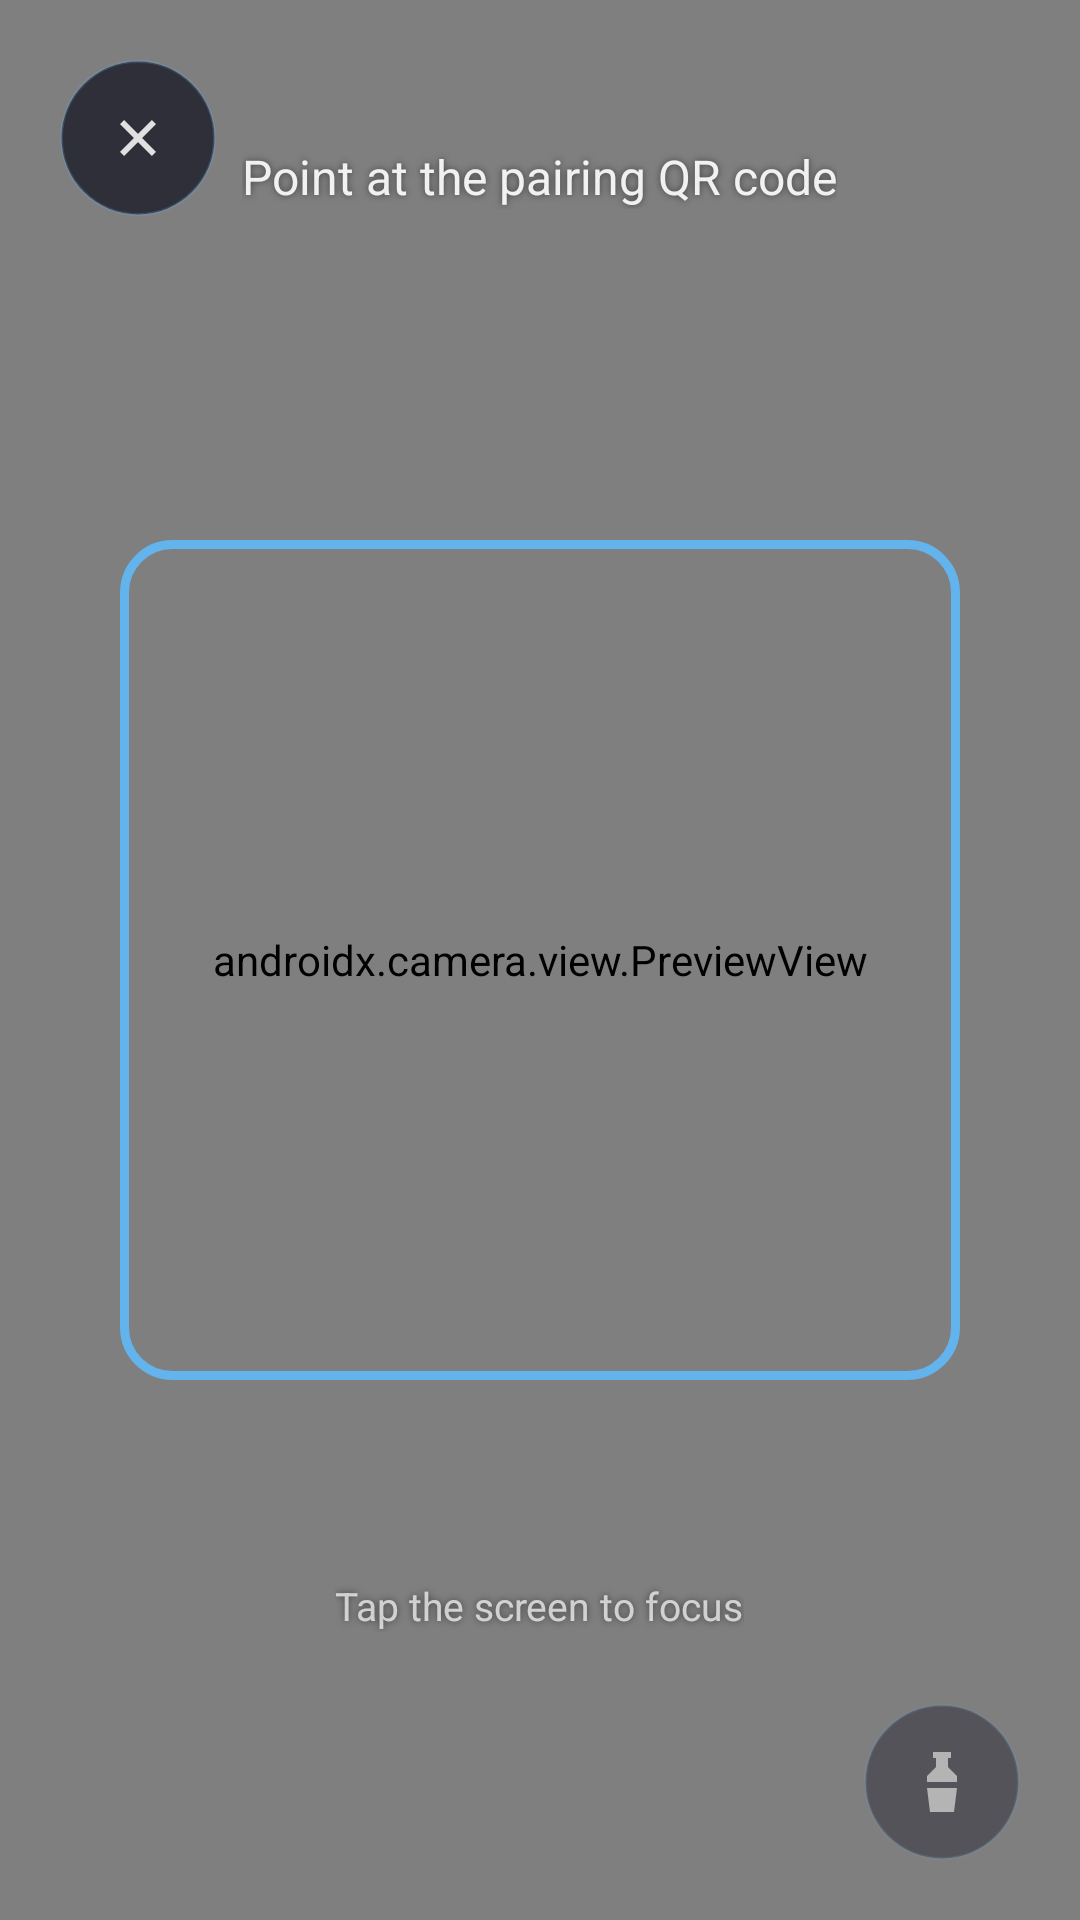

Icons on this 1080w x 1920h Android screen, each with its box as (x1, y1, x2, y2):
Close scanner: (61, 61, 215, 215)
